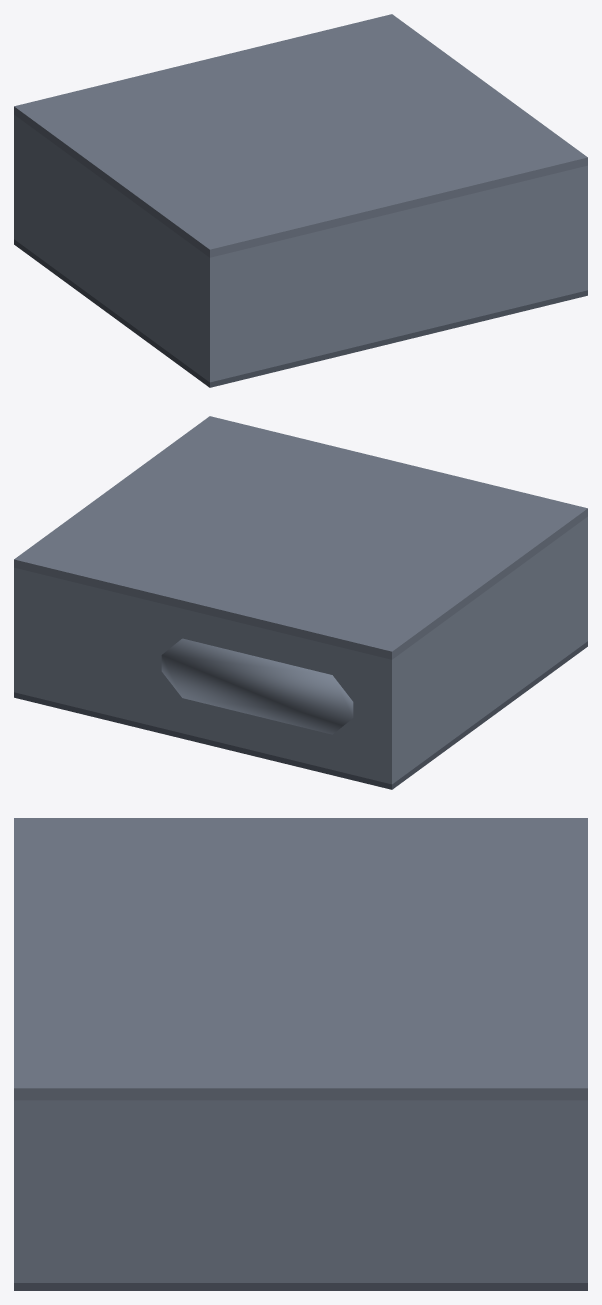
File: OperatingRoom.glb
The picture shows the model from 3 angles, top to bottom: view 1: azimuth 30°, elevation 25°; view 2: azimuth 150°, elevation 25°; view 3: azimuth 270°, elevation 25°; orthographic projection. The views are drawn at different scales.
Parts seen in each view (by area): view 1: OR_Ceiling, OR_WallFront, OR_WallLeft, OR_Floor, OR_WallBack; view 2: OR_Ceiling, OR_WallBack, OR_WallLeft, OR_Floor, OR_WallFront; view 3: OR_Ceiling, OR_WallRight, OR_Floor, OR_WallBack, OR_WallFront.
Part boxes in pixels (x1,y1,x2,y2): OR_Ceiling: (14, 14, 587, 257); OR_WallFront: (205, 165, 587, 382); OR_WallLeft: (18, 118, 205, 378); OR_Floor: (14, 239, 587, 387); OR_WallBack: (14, 114, 18, 241); OR_Ceiling: (14, 416, 587, 659); OR_WallBack: (14, 567, 396, 784); OR_WallLeft: (396, 520, 583, 780); OR_Floor: (14, 641, 587, 789); OR_WallFront: (583, 516, 587, 643); OR_Ceiling: (14, 818, 587, 1100); OR_WallRight: (27, 1100, 574, 1282); OR_Floor: (14, 1283, 587, 1290); OR_WallBack: (575, 1100, 587, 1282); OR_WallFront: (14, 1100, 26, 1282).
Bounding box in the file's own units: 14.6 × 5.1 × 13.1.
